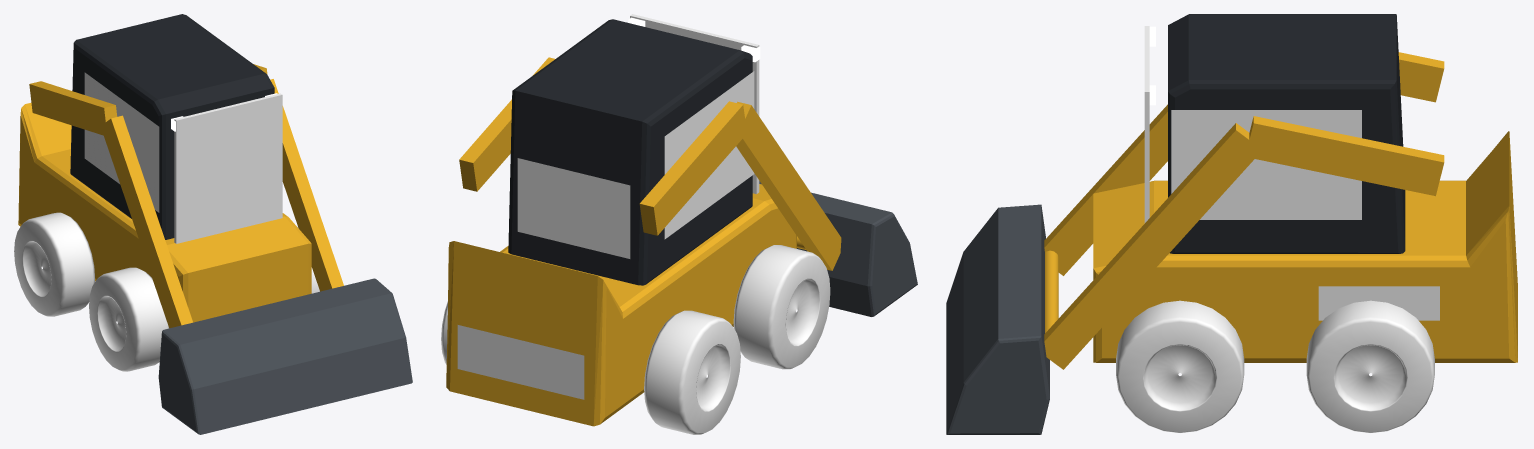
The model's file is equipment--skidSteer.glb.
3 views of the same model, side by side, from view 1: azimuth 30°, elevation 25°; view 2: azimuth 150°, elevation 25°; view 3: azimuth 270°, elevation 25° (orthographic). The views are drawn at different scales.
Parts seen in each view (by area): view 1: skidSteer:shell, bucket, door, wheelsR, arms; view 2: skidSteer:shell, wheelsR, arms, bucket, door; view 3: skidSteer:shell, wheelsL, arms, bucket, door.
Boxes of the visible parts, x1=… form: skidSteer:shell: x1=18, y1=14, x2=311, y2=322; bucket: x1=158, y1=278, x2=412, y2=434; door: x1=174, y1=93, x2=282, y2=243; wheelsR: x1=14, y1=212, x2=168, y2=371; arms: x1=29, y1=64, x2=343, y2=328; skidSteer:shell: x1=446, y1=19, x2=796, y2=426; wheelsR: x1=644, y1=245, x2=830, y2=434; arms: x1=459, y1=57, x2=841, y2=270; bucket: x1=759, y1=181, x2=917, y2=316; door: x1=630, y1=14, x2=759, y2=194; skidSteer:shell: x1=1093, y1=14, x2=1517, y2=362; wheelsL: x1=1116, y1=300, x2=1434, y2=432; arms: x1=1044, y1=52, x2=1444, y2=369; bucket: x1=946, y1=204, x2=1049, y2=434; door: x1=1144, y1=26, x2=1149, y2=223.
Size of the model in its own units: 1.83 by 2.07 by 3.31.
